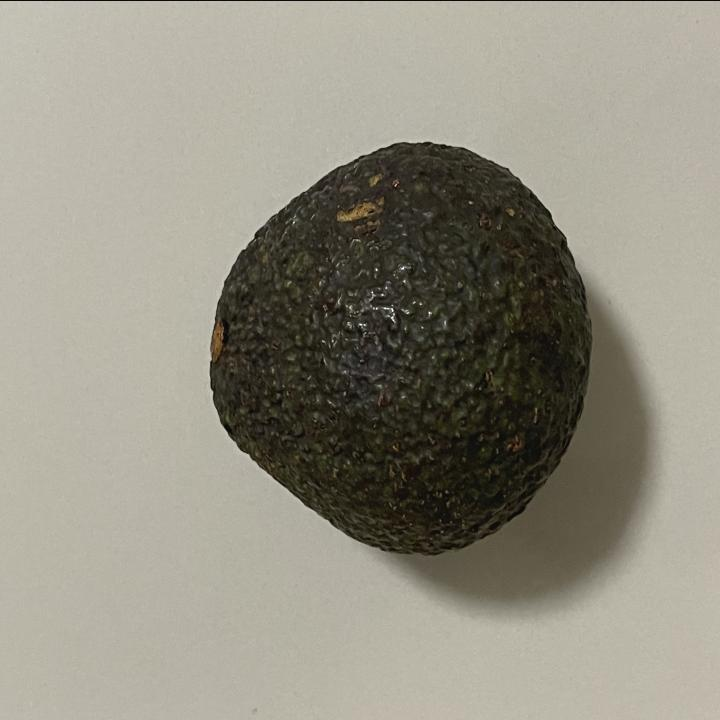Level1: (195, 118, 603, 572)
